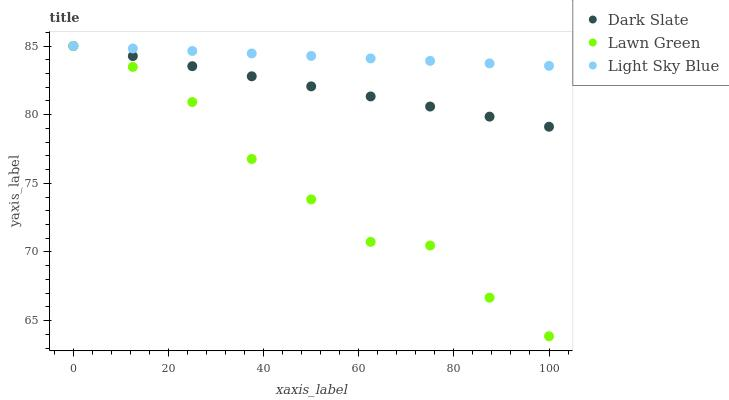axis: (572, 1, 729, 85), (60, 348, 576, 357), (42, 32, 54, 343)
point: (300, 80, 318, 97), (483, 56, 499, 70), (539, 119, 554, 133), (483, 291, 497, 305), (366, 237, 380, 250), (482, 112, 494, 127), (188, 46, 201, 59), (247, 71, 259, 84), (302, 192, 314, 204), (303, 49, 317, 59), (428, 54, 438, 68), (426, 101, 436, 115), (364, 52, 376, 63), (247, 154, 259, 165), (543, 330, 554, 341), (68, 41, 79, 51), (427, 239, 436, 251), (128, 52, 139, 61), (187, 100, 196, 109), (128, 62, 138, 69), (129, 45, 138, 52), (366, 92, 374, 97)
